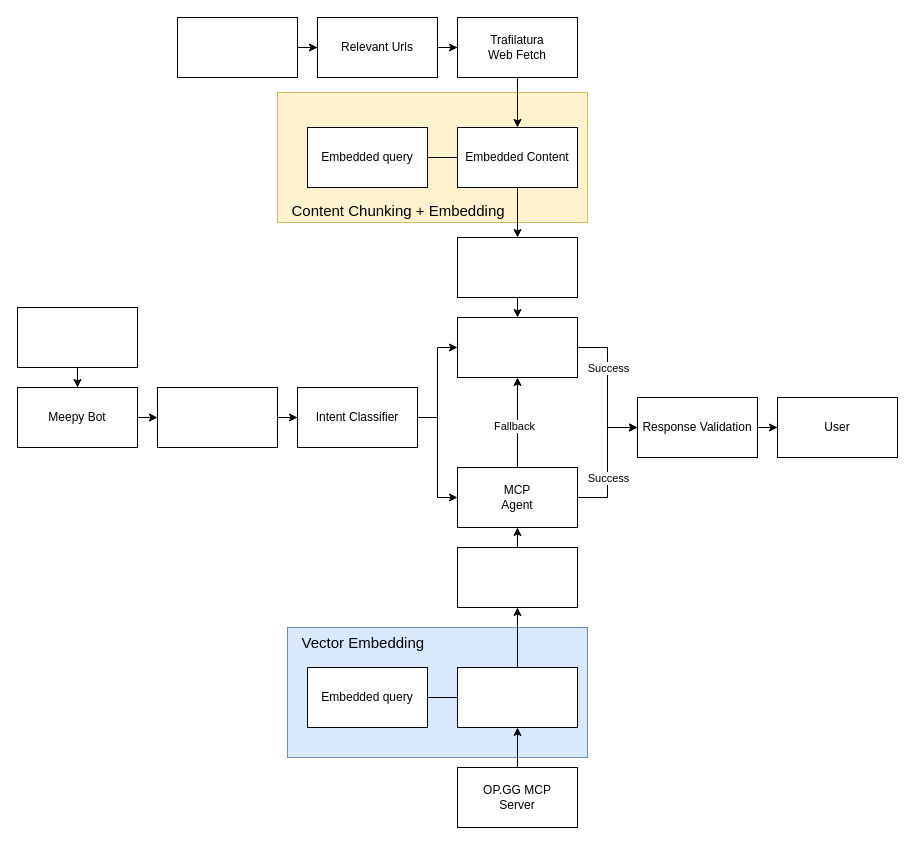
Image size: 915x845. Some labels were removed from this diagram. Each missing label, with the centre of its shape:
Embedded tools: (x=517, y=697)
Filtered tools: (x=517, y=577)
Query Validation: (x=217, y=417)
Relevant Content Chunks: (x=517, y=267)
Searxng Search Engine: (x=237, y=47)
User's query: (x=77, y=337)
Web Search Agent: (x=517, y=347)
